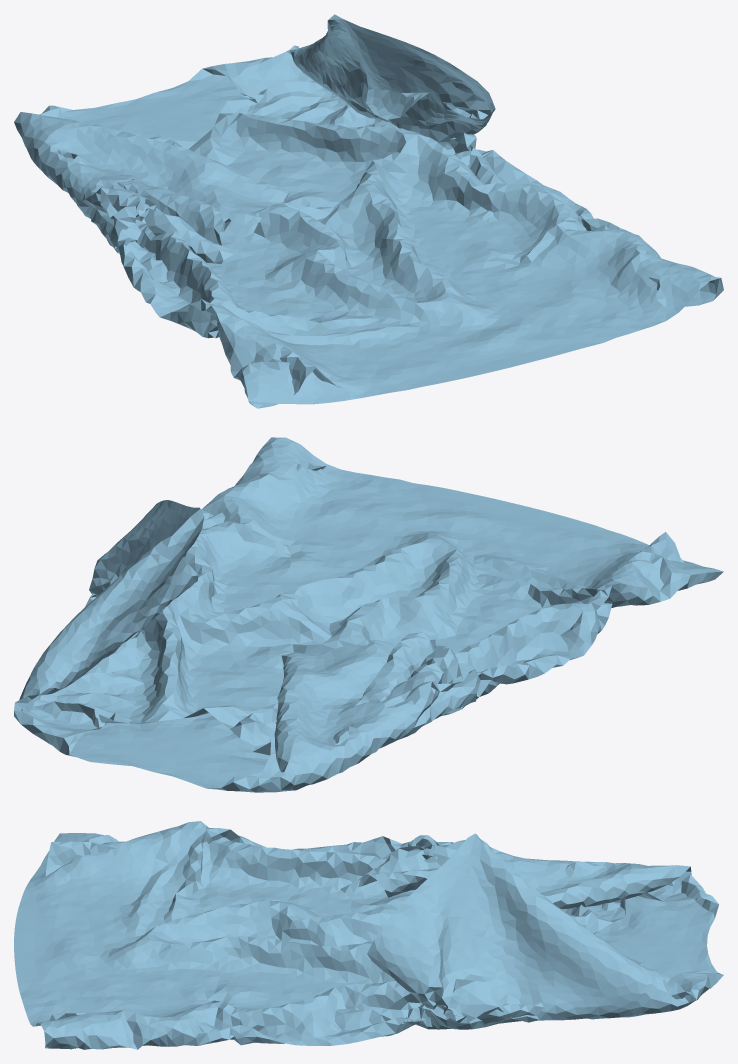
File: frame_14.glb
The picture shows the model from 3 angles, top to bottom: view 1: azimuth 30°, elevation 25°; view 2: azimuth 150°, elevation 25°; view 3: azimuth 270°, elevation 25°; orthographic projection. The views are drawn at different scales.
Parts seen in each view (by area): view 1: frame_14.obj; view 2: frame_14.obj; view 3: frame_14.obj.
Boxes of the visible parts, bbox=[...] form: frame_14.obj: bbox=[14, 14, 723, 408]; frame_14.obj: bbox=[14, 437, 723, 792]; frame_14.obj: bbox=[14, 821, 723, 1049].
Bounding box in the file's own units: 1.22 × 0.4076 × 1.7.
